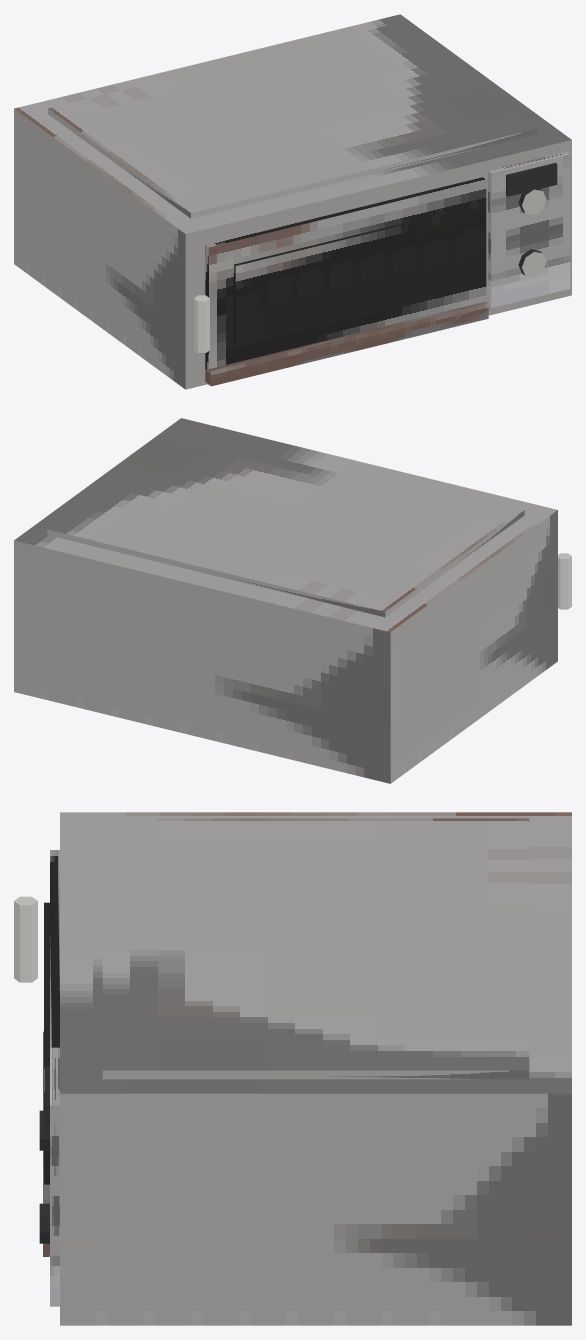
Rendered from Building_AncientMicrowave.glb.
The picture shows the model from 3 angles, top to bottom: view 1: azimuth 30°, elevation 25°; view 2: azimuth 150°, elevation 25°; view 3: azimuth 270°, elevation 25°; orthographic projection. The views are drawn at different scales.
Parts seen in each view (by area): view 1: AncientMicrowave; view 2: AncientMicrowave; view 3: AncientMicrowave.
Part boxes in pixels (box(x1,y1,x2,y2)): AncientMicrowave: box(14, 14, 571, 389); AncientMicrowave: box(14, 418, 571, 783); AncientMicrowave: box(14, 812, 571, 1325).
Size of the model in its own units: 0.7821 by 0.341 by 0.654.
1 material, 1 textured.
